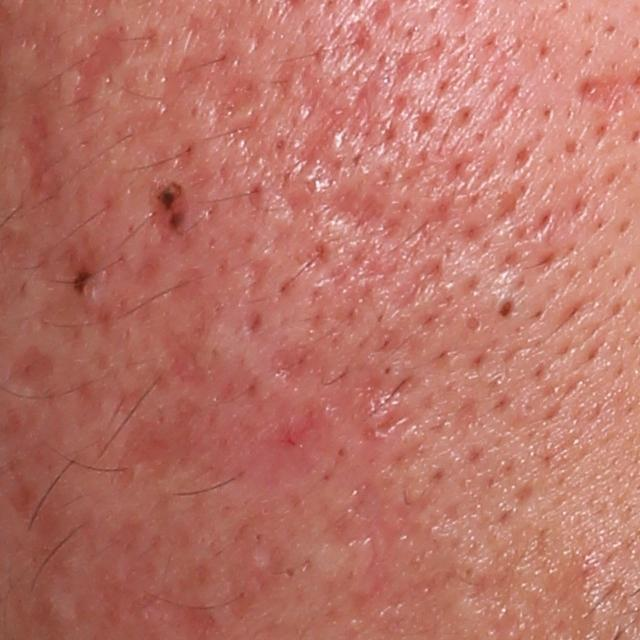atrophic_scar: (312, 476, 436, 623), (269, 339, 423, 445), (292, 51, 383, 173), (65, 20, 133, 120), (323, 188, 414, 255), (14, 87, 63, 205), (201, 75, 266, 151), (389, 254, 448, 317), (575, 75, 636, 119), (0, 343, 56, 388), (411, 191, 456, 244), (393, 37, 445, 79), (237, 308, 270, 339), (246, 260, 275, 294)
comedo: (493, 292, 526, 323)
nevus: (147, 176, 192, 240), (66, 267, 99, 300)
